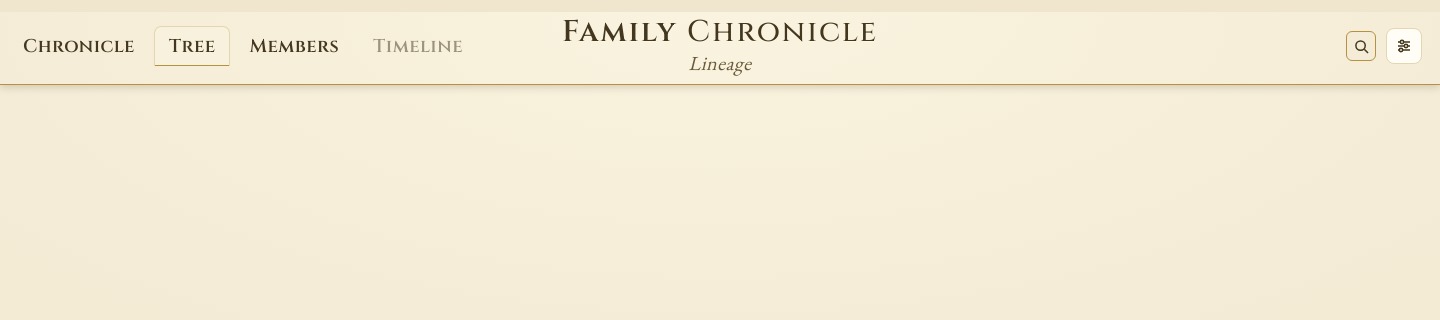
Test: AppBar › collapses search to an icon on narrow desktop and reveals it on click
Expected: the element with test id "settings-menu" is shown, left=1386, top=28, right=1422, bottom=64
Click the button with test id "desktop-search-toggle": point(1361, 46) left=1346, top=31, right=1376, bottom=61
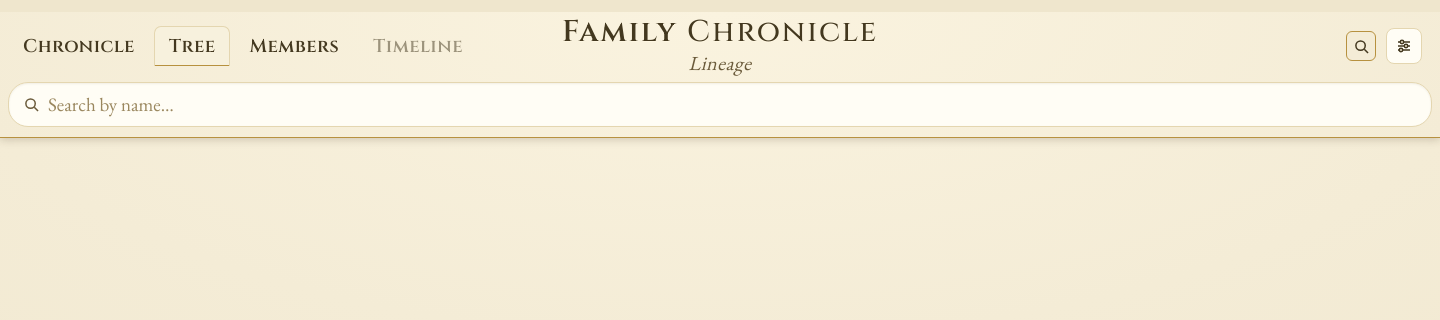
Result: the search field with test id "search-input" is shown at left=46, top=91, right=1416, bottom=118
